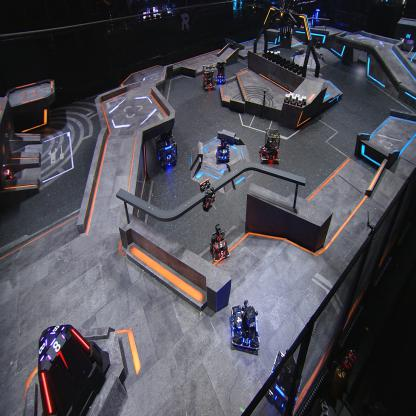car: (267, 346, 304, 416), (231, 298, 260, 352), (154, 127, 178, 173), (258, 128, 280, 164), (210, 224, 230, 262), (201, 62, 216, 90), (216, 136, 230, 164), (0, 163, 14, 185), (214, 61, 226, 85)
